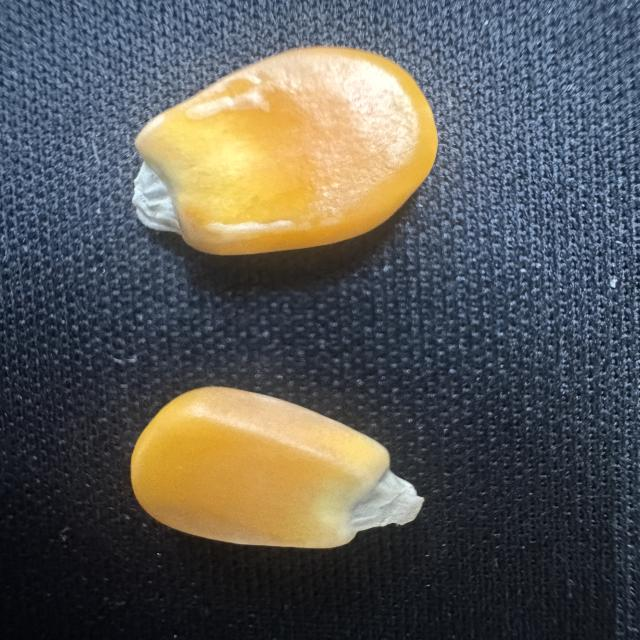Good-Seed: (113, 45, 443, 258), (123, 376, 433, 562)
